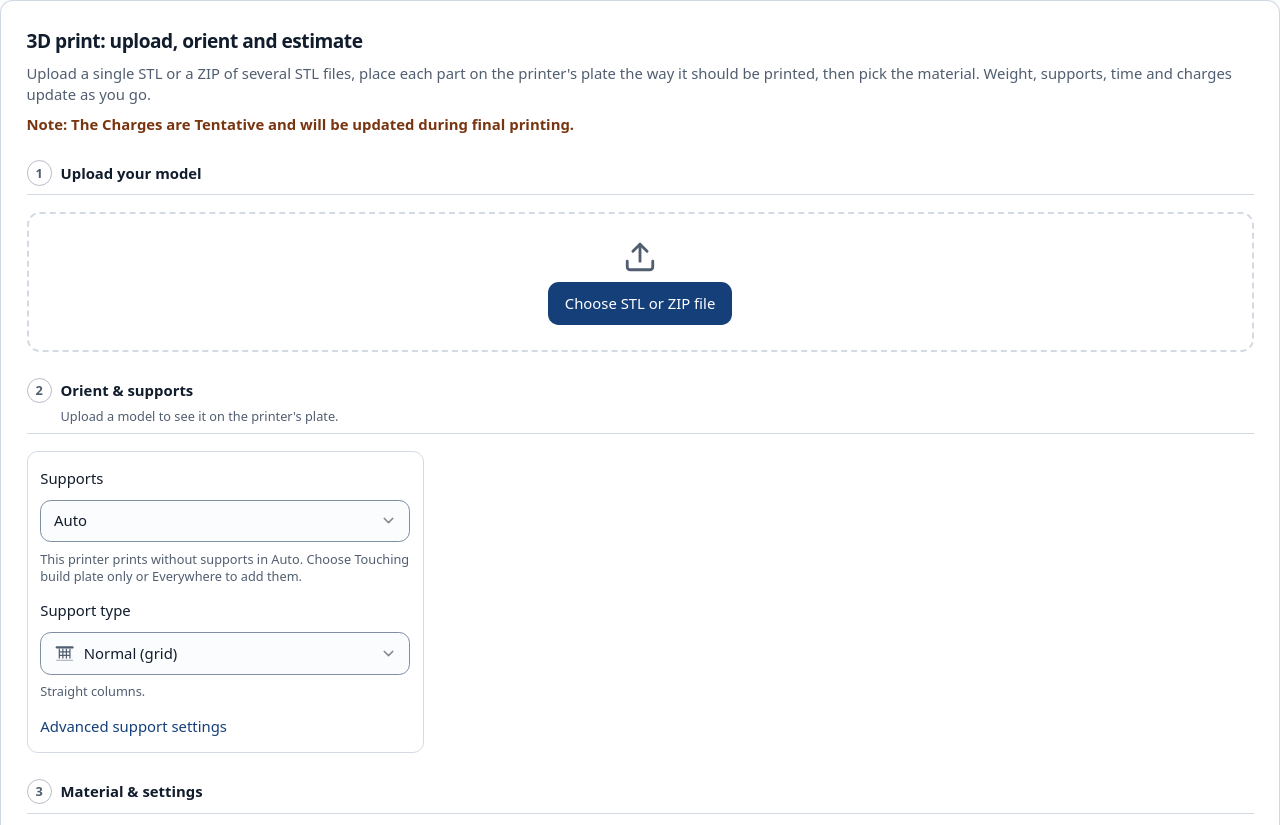
Scenario: Print3DBookingPanel supports and estimate breakdown › keeps the support choice on printers set to print without supports in Auto
Expected: the text with test id "print-support-mode-hint" shows "This printer prints without supports in Auto", [40,550,409,585]
Expected: the element with test id "print-support-type-field" is shown, [40,598,410,700]
What coordinates should you click on to do the following:
click the dropdown with test id "print-support-mode"
I would click on:
 (71, 520)
Its box is [40,500,410,542].
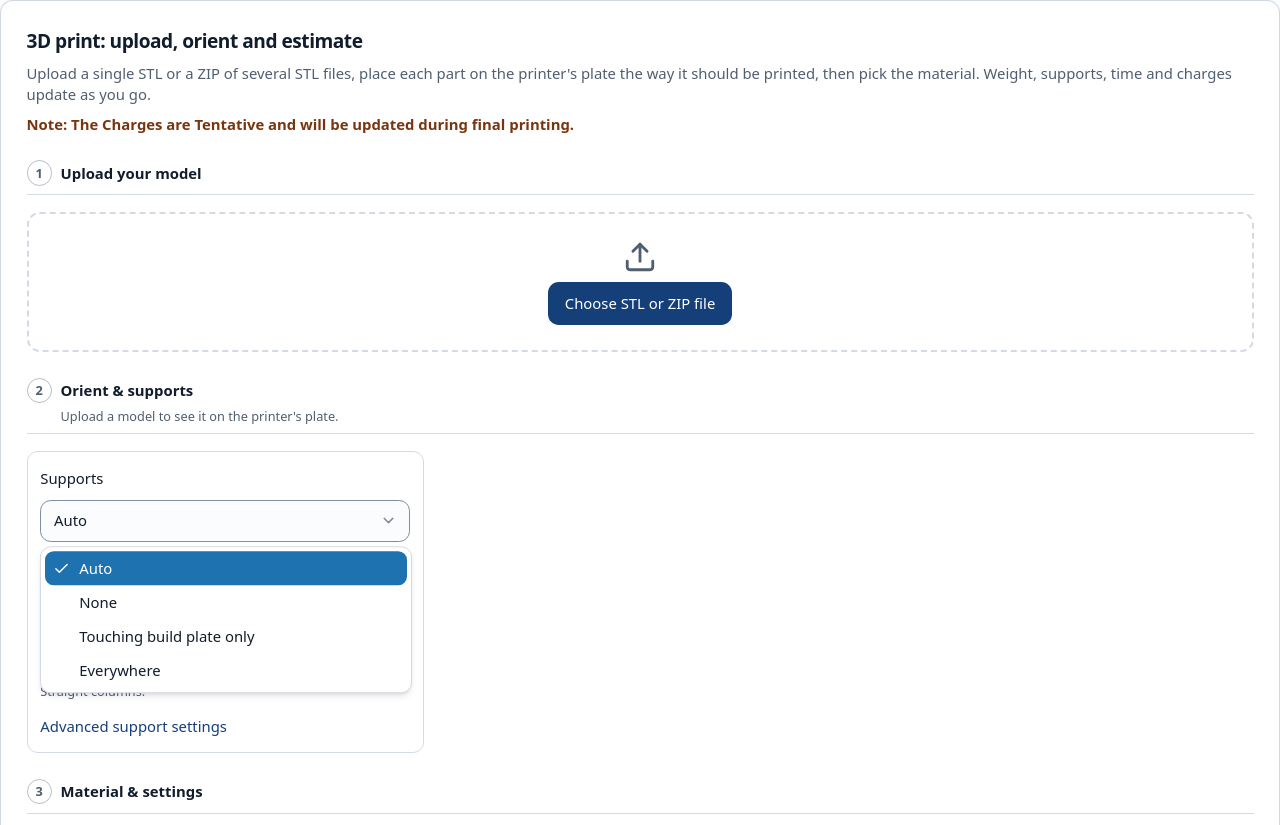
What coordinates should you click on to do the following:
click the option "Everywhere"
I would click on:
 (120, 670)
Its box is [79,660,161,680].
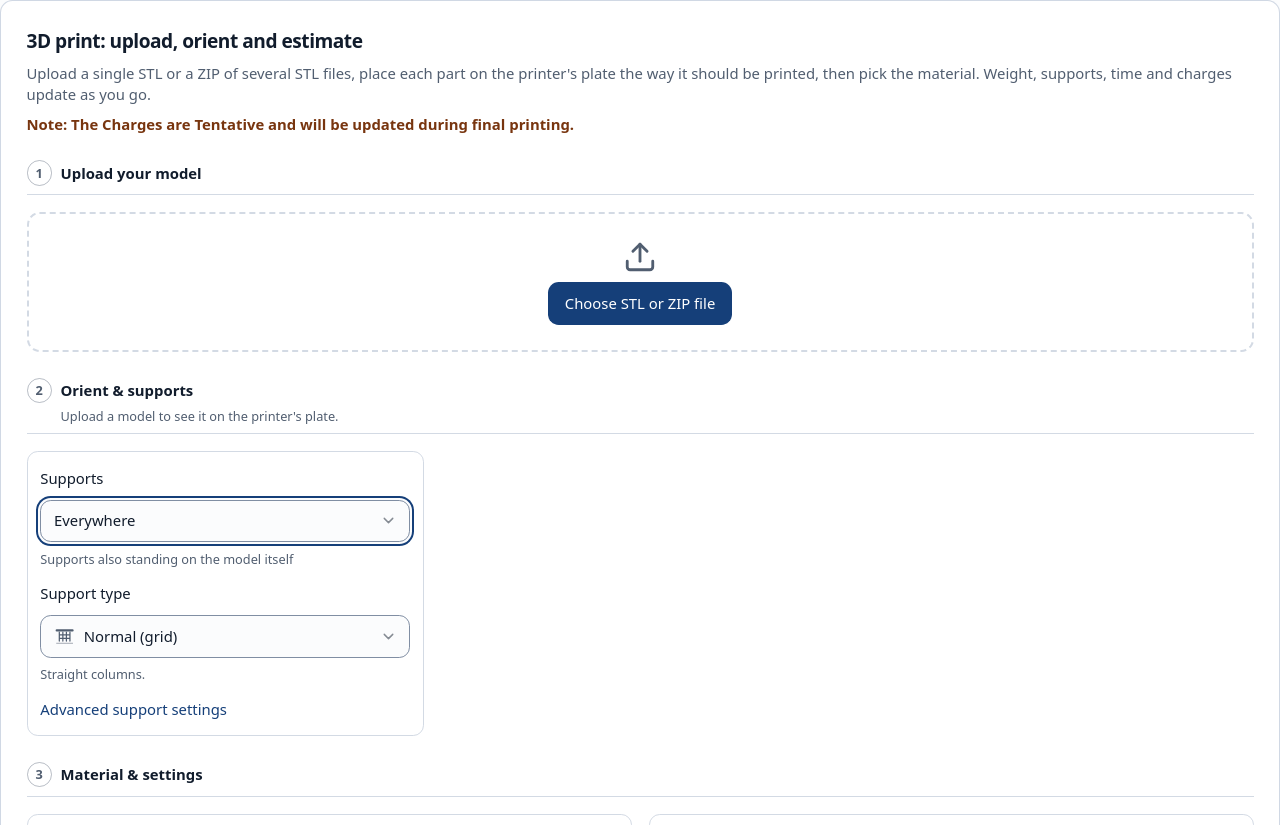
Expected: the text with test id "print-support-mode-hint" no longer shows "without supports in Auto"
